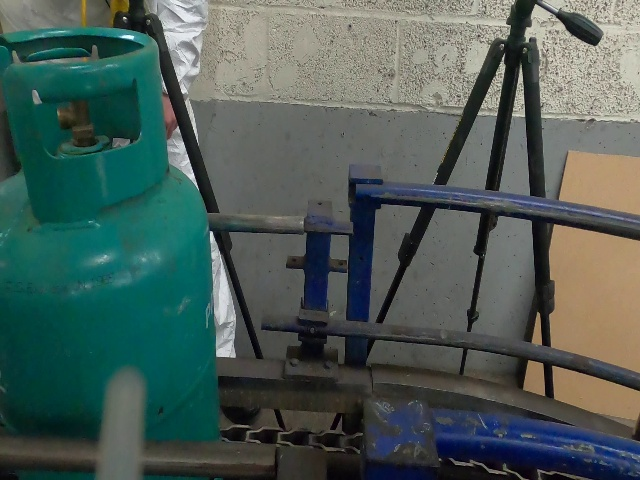gas_bottle: (0, 6, 636, 473)
